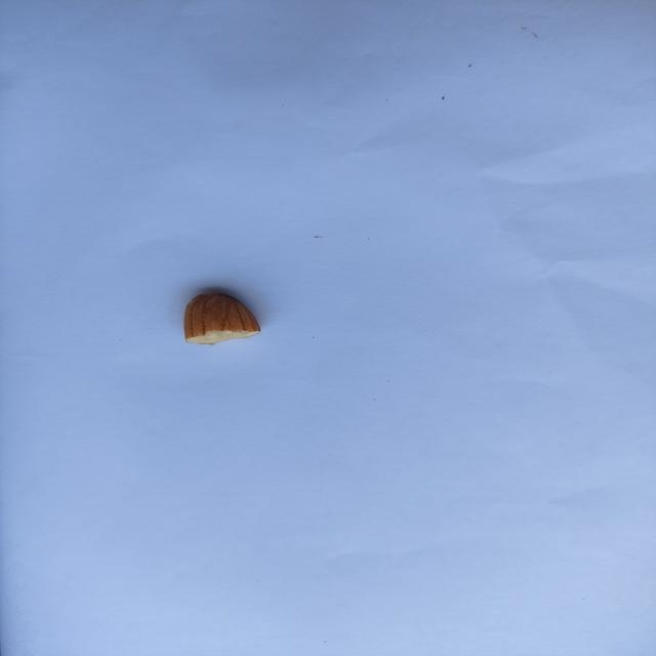grade4: (176, 285, 270, 349)
